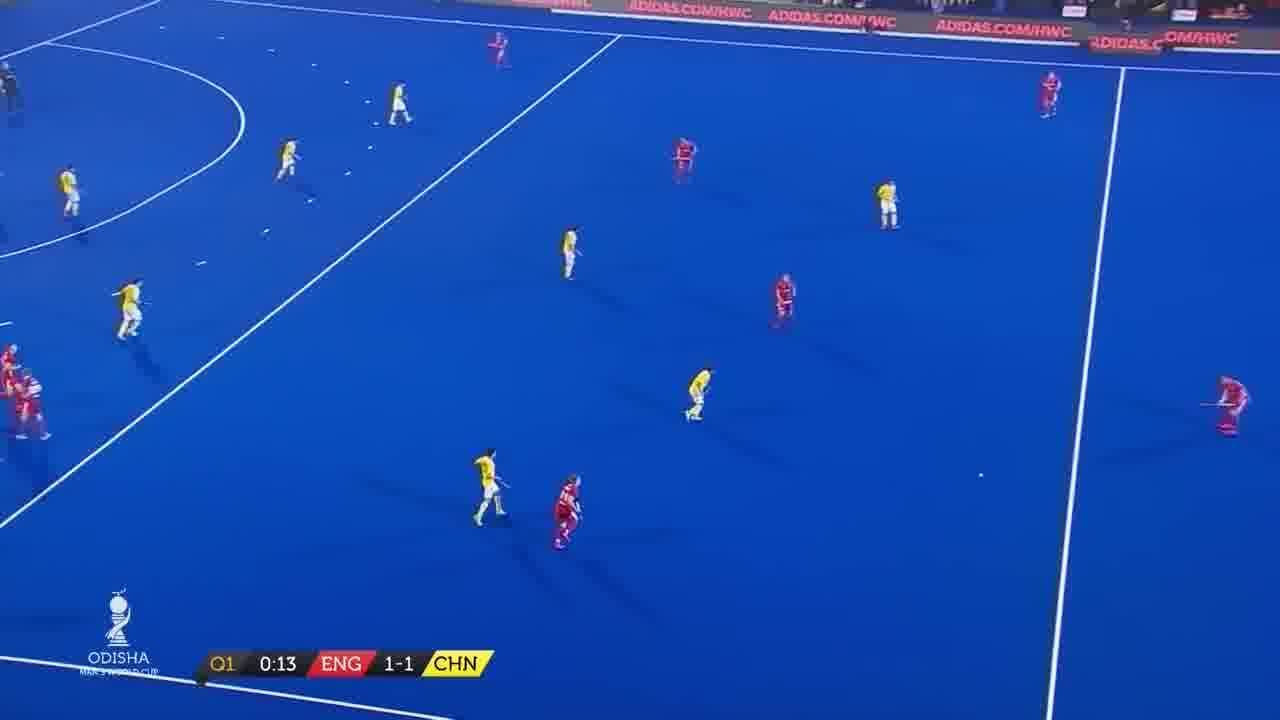ball: (974, 468, 992, 485)
